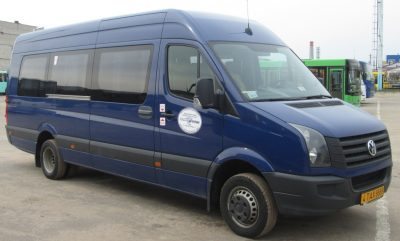van: (6, 9, 393, 238)
